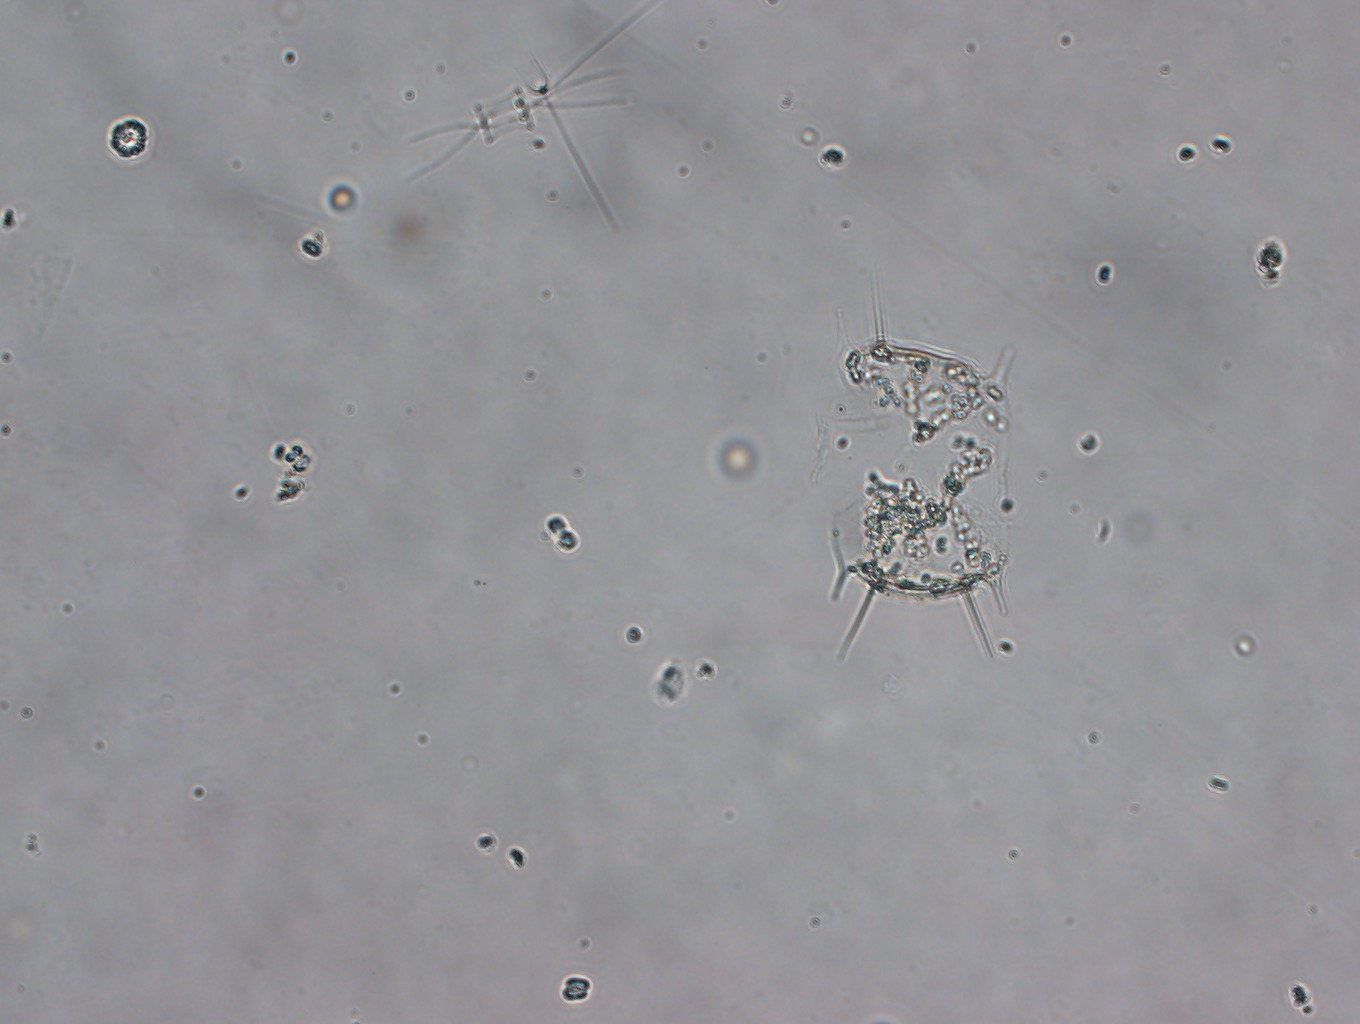biddulphia: (827, 278, 1016, 664)
chaetoceros: (400, 1, 657, 190)
